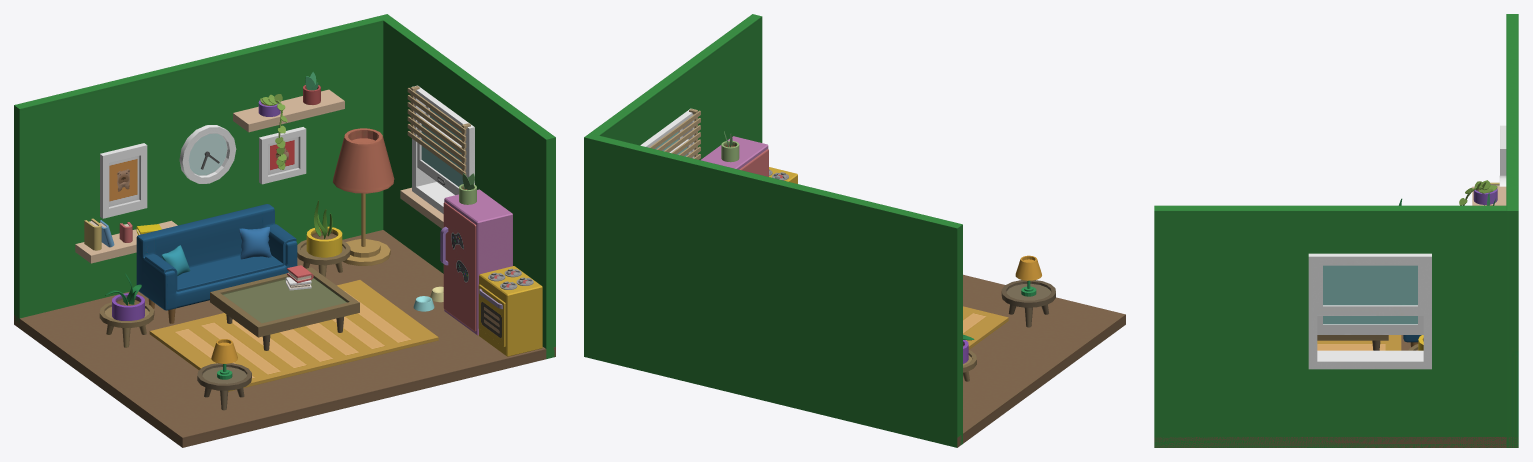
3 views of the same model, side by side, from view 1: azimuth 30°, elevation 25°; view 2: azimuth 150°, elevation 25°; view 3: azimuth 270°, elevation 25° (orthographic). The views are drawn at different scales.
Parts seen in each view (by area): view 1: wall_front_low, floor_low, wall_side_low, carpet_low, sofa_low, table_low, fridge1_low, stove_low, fridge_low, photo_02_low, lamp_02_low, clock_low (+15 smaller); view 2: wall_front_low, floor_low, wall_side_low, table_small_low, carpet_low, fridge_low, lamp_01_low, window_low; view 3: wall_side_low, wall_front_low, window_low, window_part_03_low, floor_low, window_part_02_low, carpet_low, table_low.
Boxes of the visible parts, <box> form: wall_front_low: <box>14,14,392,327</box>; floor_low: <box>14,230,555,447</box>; wall_side_low: <box>381,16,555,358</box>; carpet_low: <box>149,280,438,391</box>; sofa_low: <box>136,204,297,310</box>; table_low: <box>210,267,359,337</box>; fridge1_low: <box>443,202,476,331</box>; stove_low: <box>479,266,542,356</box>; fridge_low: <box>444,189,512,335</box>; photo_02_low: <box>100,143,147,218</box>; lamp_02_low: <box>333,128,394,193</box>; clock_low: <box>179,125,236,183</box>; wall_front_low: <box>584,134,962,447</box>; floor_low: <box>957,274,1125,447</box>; wall_side_low: <box>587,14,762,159</box>; table_small_low: <box>1001,280,1055,307</box>; carpet_low: <box>963,306,1008,349</box>; fridge_low: <box>700,136,768,169</box>; lamp_01_low: <box>1015,255,1041,280</box>; window_low: <box>640,108,694,158</box>; wall_side_low: <box>1154,205,1512,447</box>; wall_front_low: <box>1506,14,1518,447</box>; window_low: <box>1308,253,1431,369</box>; window_part_03_low: <box>1317,264,1423,315</box>; floor_low: <box>1154,335,1518,447</box>; window_part_02_low: <box>1317,316,1423,334</box>; carpet_low: <box>1317,335,1401,350</box>; table_low: <box>1317,335,1388,340</box>.
Size of the model in its own units: 35.91 by 19.88 by 27.67.
Materials: 3 (3 with a texture image).
